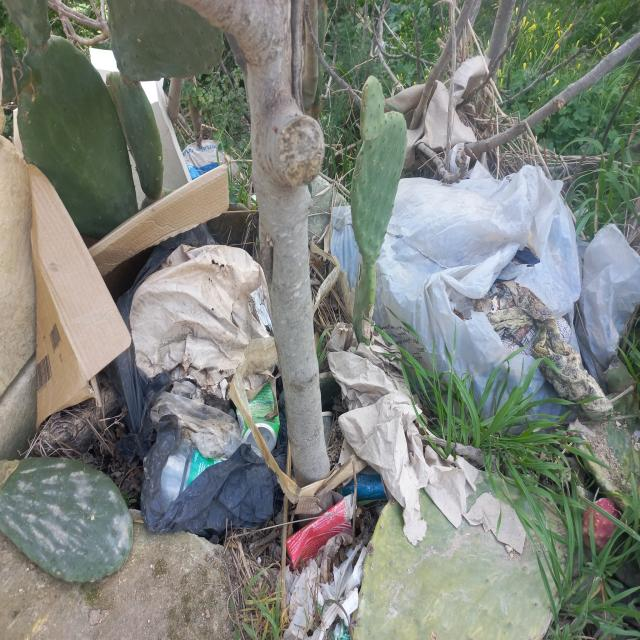Bottle: (156, 435, 229, 506)
Can: (238, 374, 280, 458)
Carton: (25, 167, 234, 434), (229, 337, 368, 523), (279, 491, 355, 572)
Other litter: (101, 217, 284, 535), (276, 538, 368, 640), (339, 475, 386, 501)
Paper: (326, 321, 531, 560), (383, 46, 491, 175)
Plastic bag - wrapper: (330, 159, 640, 430), (182, 139, 241, 185)
Styrofoam piece: (137, 79, 194, 201), (88, 45, 116, 86)
